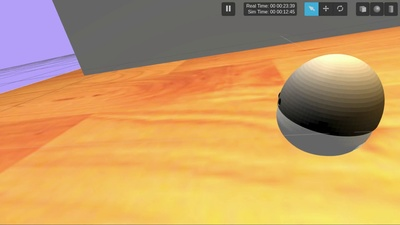mira_robot: (277, 54, 386, 156)
